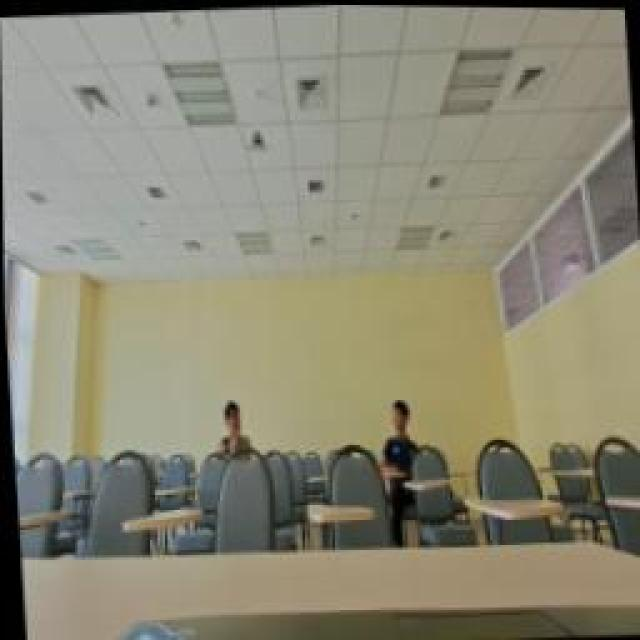phone: (208, 398, 250, 460)
study: (372, 398, 418, 472)
